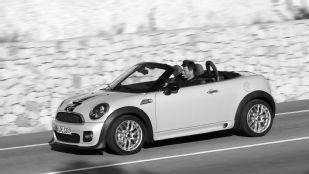car: (51, 56, 278, 159)
